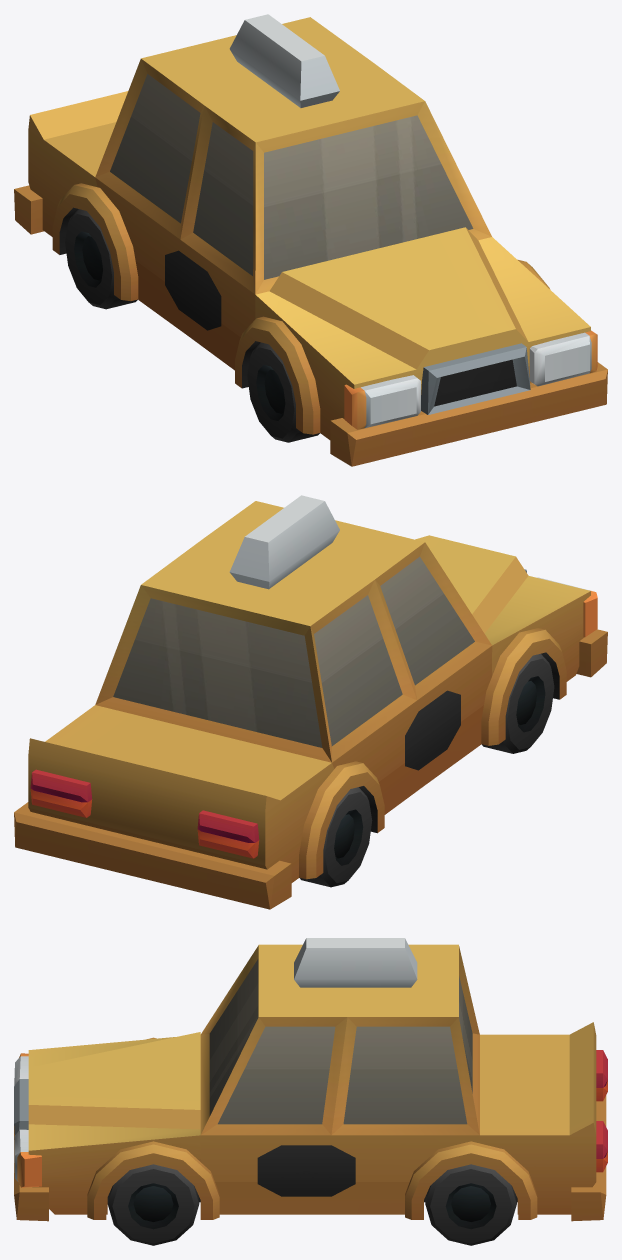
The model's file is taxi_free_model.glb.
3 views of the same model, one above another, from view 1: azimuth 30°, elevation 25°; view 2: azimuth 150°, elevation 25°; view 3: azimuth 270°, elevation 25° (orthographic). The views are drawn at different scales.
Parts seen in each view (by area): view 1: car_taxi, car_taxi_wheel_rear_right, car_taxi_wheel_front_right; view 2: car_taxi, car_taxi_wheel_front_right, car_taxi_wheel_rear_right; view 3: car_taxi, car_taxi_wheel_front_left, car_taxi_wheel_rear_left.
Boxes of the visible parts, bbox=[...] form: car_taxi: bbox=[14, 14, 607, 466]; car_taxi_wheel_rear_right: bbox=[65, 209, 137, 309]; car_taxi_wheel_front_right: bbox=[247, 342, 319, 442]; car_taxi: bbox=[14, 495, 607, 909]; car_taxi_wheel_front_right: bbox=[482, 653, 554, 753]; car_taxi_wheel_rear_right: bbox=[299, 787, 372, 887]; car_taxi: bbox=[14, 938, 607, 1221]; car_taxi_wheel_front_left: bbox=[107, 1164, 199, 1245]; car_taxi_wheel_rear_left: bbox=[425, 1164, 516, 1245].
Bounding box in the file's own units: 0.419 × 0.4345 × 0.9381.
Materials: 1 (1 with a texture image).
